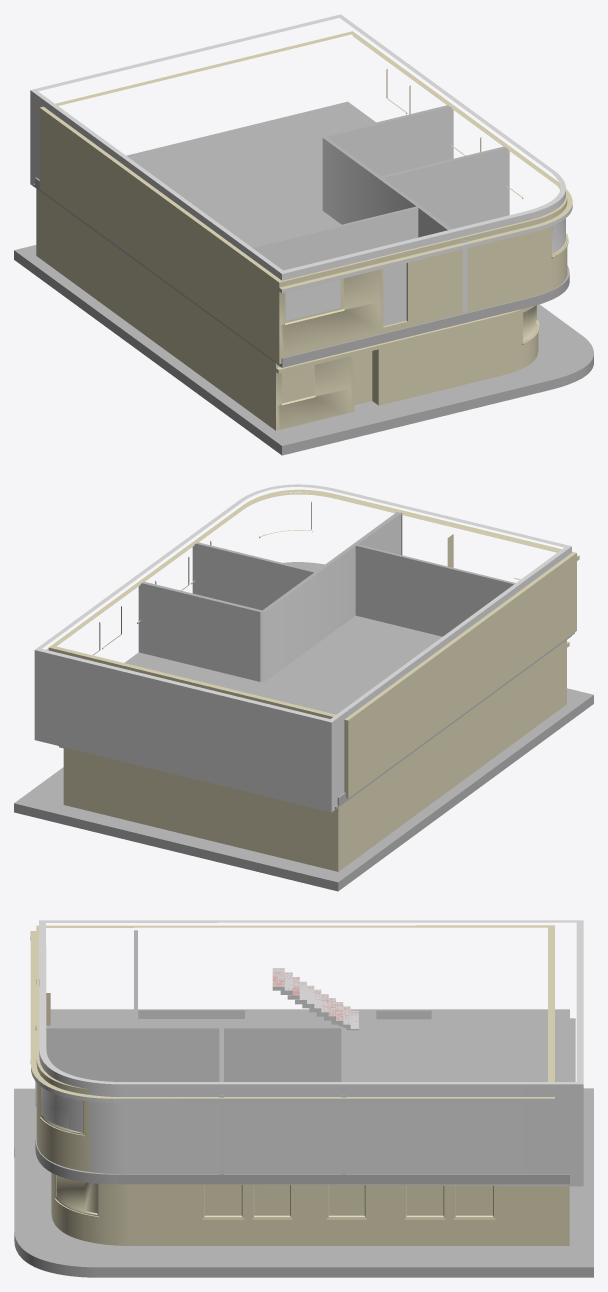
File: gif_house.gltf
The picture shows the model from 3 angles, top to bottom: view 1: azimuth 30°, elevation 25°; view 2: azimuth 150°, elevation 25°; view 3: azimuth 270°, elevation 25°; orthographic projection. The views are drawn at different scales.
Visible parts, largest first — view 1: FLOOR.1-Mat.4 (×2), FLOOR.1-Mat.5 (×2), FLOOR.1-Mat (×3); view 2: FLOOR.1-Mat (×2), FLOOR.1-Mat.4 (×2), FLOOR.1-Mat.5 (×2); view 3: FLOOR.1-Mat (×3), FLOOR.1-Mat.5 (×2), FLOOR.1-Mat.4 (×2), FLOOR.1-Mat.1.
Part boxes in pixels (box(x1,y1,x2,y2)): FLOOR.1-Mat.4 (×2): box(36, 31, 572, 430); FLOOR.1-Mat.5 (×2): box(14, 101, 593, 455); FLOOR.1-Mat (×3): box(30, 14, 572, 367); FLOOR.1-Mat (×2): box(34, 484, 571, 812); FLOOR.1-Mat.4 (×2): box(46, 489, 579, 871); FLOOR.1-Mat.5 (×2): box(14, 512, 593, 891); FLOOR.1-Mat (×3): box(30, 920, 583, 1186); FLOOR.1-Mat.5 (×2): box(14, 930, 593, 1277); FLOOR.1-Mat.4 (×2): box(30, 925, 569, 1245); FLOOR.1-Mat.1: box(272, 968, 358, 1023).
Size of the model in its own units: 5250 by 2583 by 7185.
